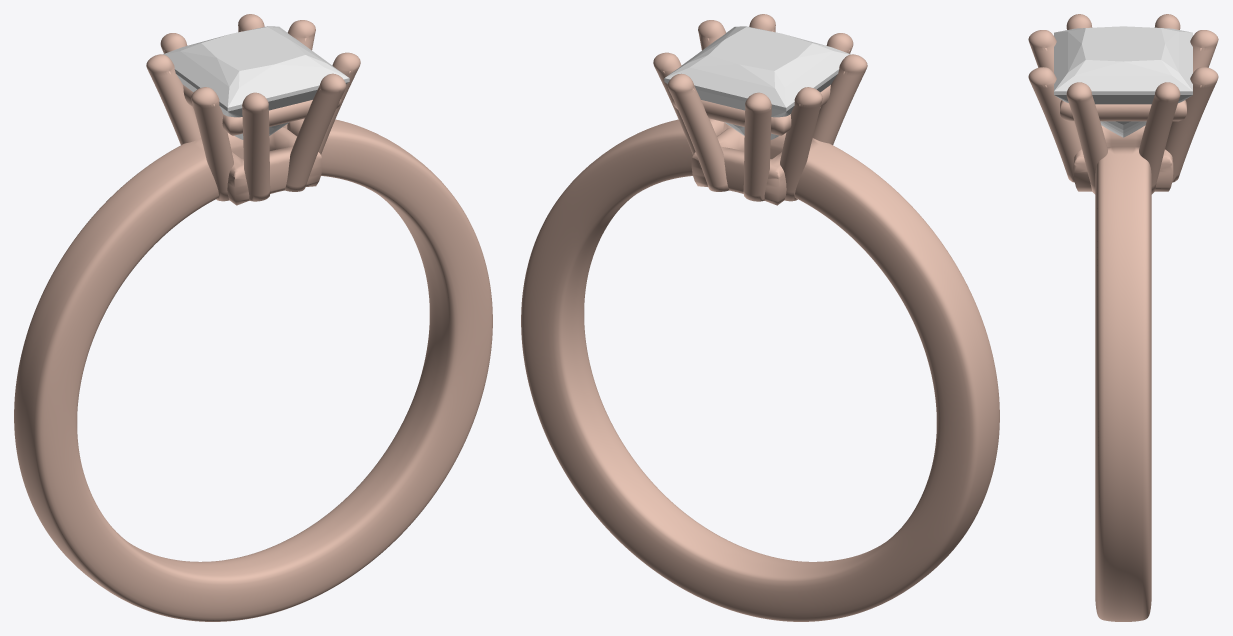
File: diamond-princess-rosegold-8prong-straightband-solitaire.glb
3 views of the same model, side by side, from view 1: azimuth 30°, elevation 25°; view 2: azimuth 150°, elevation 25°; view 3: azimuth 270°, elevation 25° (orthographic).
Parts seen in each view (by area): view 1: metal, stone; view 2: metal, stone; view 3: metal, stone.
Boxes of the visible parts, bbox=[...] form: metal: bbox=[14, 14, 492, 621]; stone: bbox=[163, 26, 349, 139]; metal: bbox=[521, 14, 999, 621]; stone: bbox=[664, 26, 850, 139]; metal: bbox=[1028, 14, 1218, 621]; stone: bbox=[1054, 26, 1192, 137].
Bounding box in the file's own units: 20.51 × 23.85 × 7.42.
